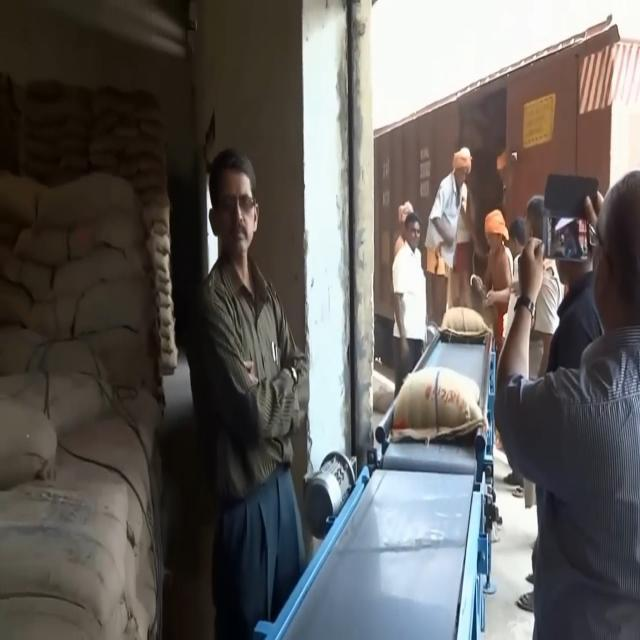gunny_bag: (1, 480, 131, 636), (387, 362, 490, 445), (0, 369, 117, 441), (0, 388, 57, 496), (38, 168, 134, 226), (66, 276, 150, 334), (50, 246, 142, 298), (15, 222, 96, 272), (440, 307, 492, 342)
